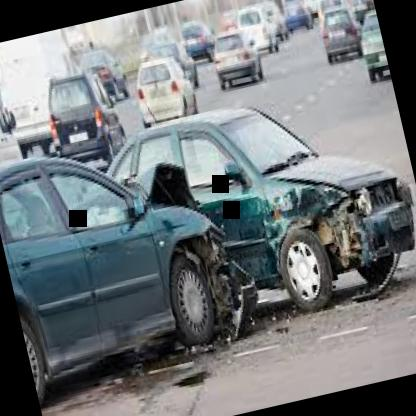accident: (0, 54, 416, 416)
